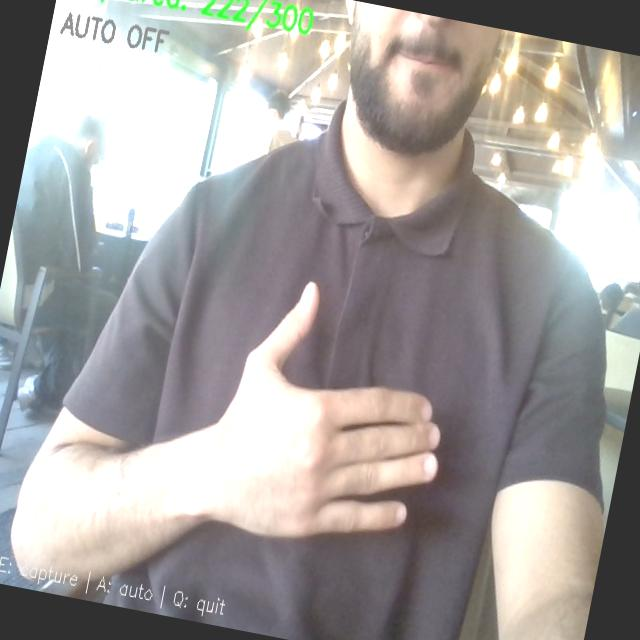Hand: (212, 284, 439, 537)
